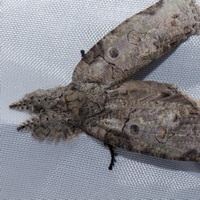insect: (10, 0, 199, 168)
